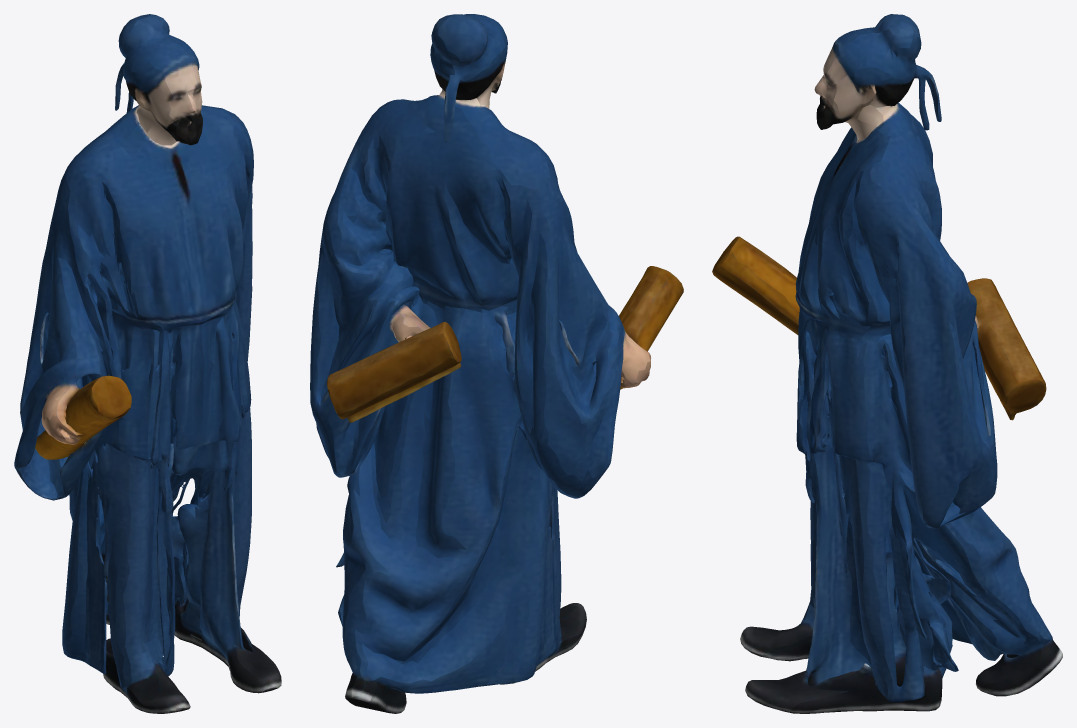
File: bamboo_scholar.glb
3 views of the same model, side by side, from view 1: azimuth 30°, elevation 25°; view 2: azimuth 150°, elevation 25°; view 3: azimuth 270°, elevation 25° (orthographic). The views are drawn at different scales.
Parts seen in each view (by area): view 1: geometry_0; view 2: geometry_0; view 3: geometry_0.
Part boxes in pixels (x1,y1,x2,y2): geometry_0: [14, 14, 281, 713]; geometry_0: [310, 14, 683, 713]; geometry_0: [712, 14, 1062, 713].
Size of the model in its own units: 0.7287 by 1.75 by 0.8415.
1 material, 1 textured.
